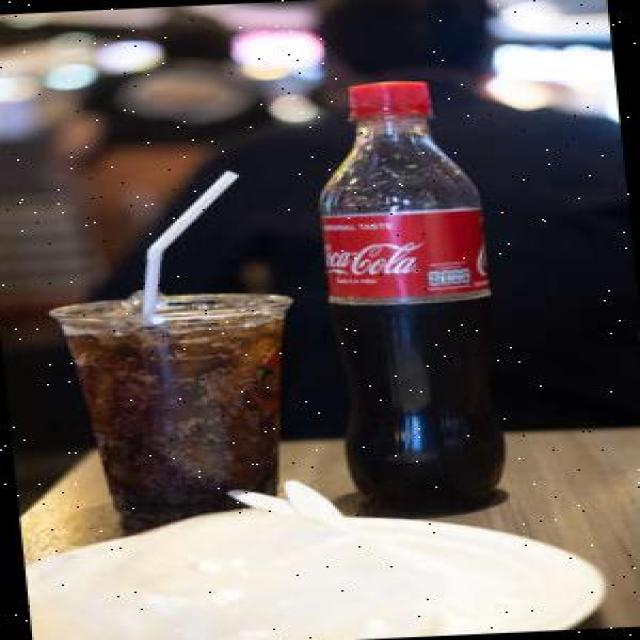coca-cola: (273, 71, 540, 531)
